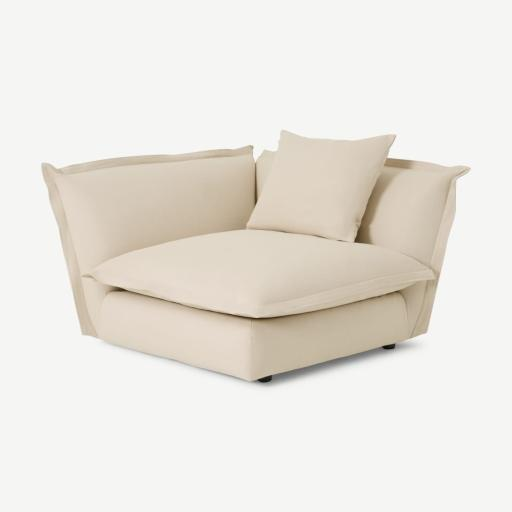back_cushion: (247, 130, 395, 242)
base: (100, 291, 407, 381)
left_arm: (357, 158, 469, 337)
one-seater: (0, 0, 511, 512)
right_arm: (43, 146, 255, 336)
seat_cushion: (88, 230, 433, 319)
